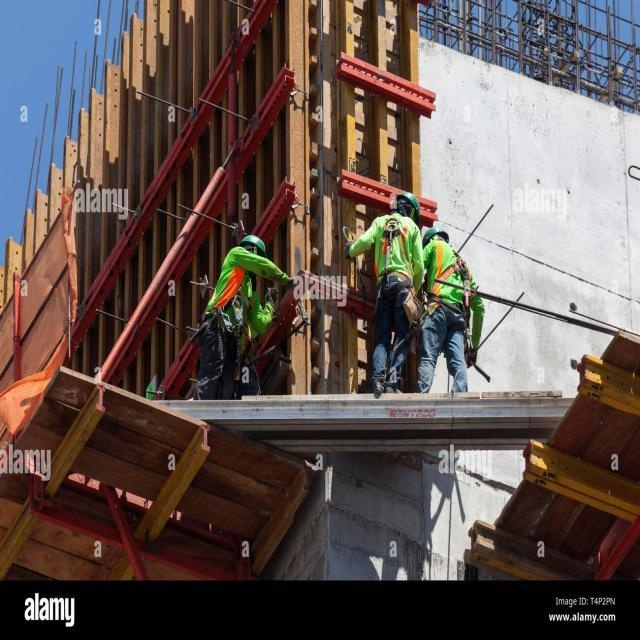Arnes_seguridad: (196, 274, 265, 343), (422, 248, 474, 322), (374, 213, 418, 300)
